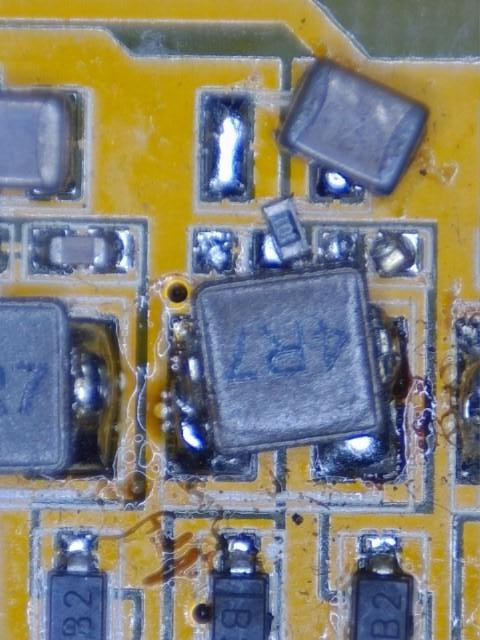pcb_defect: (167, 264, 409, 483), (276, 55, 432, 201), (255, 193, 312, 269)
